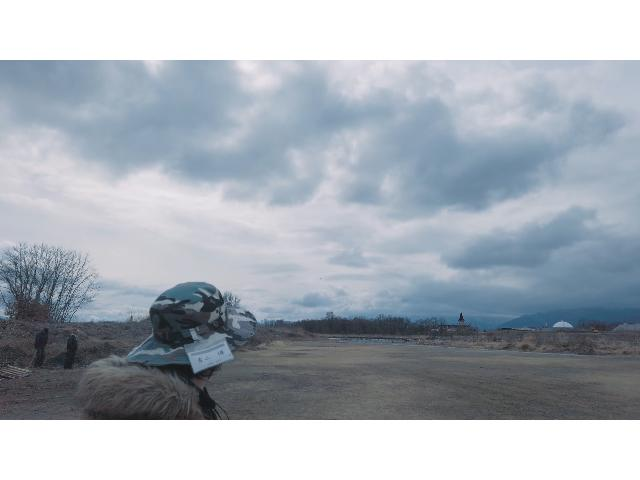Anti-Drone: (314, 274, 326, 284)
